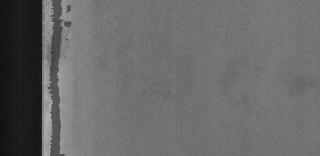oil spot: (46, 0, 80, 156)
